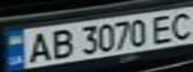0: (127, 16, 151, 47), (97, 20, 118, 52)
3: (75, 24, 100, 55)
7: (112, 18, 133, 50)
A: (21, 29, 54, 64)
B: (45, 26, 75, 61)
C: (166, 9, 193, 40)
E: (148, 11, 181, 44)
